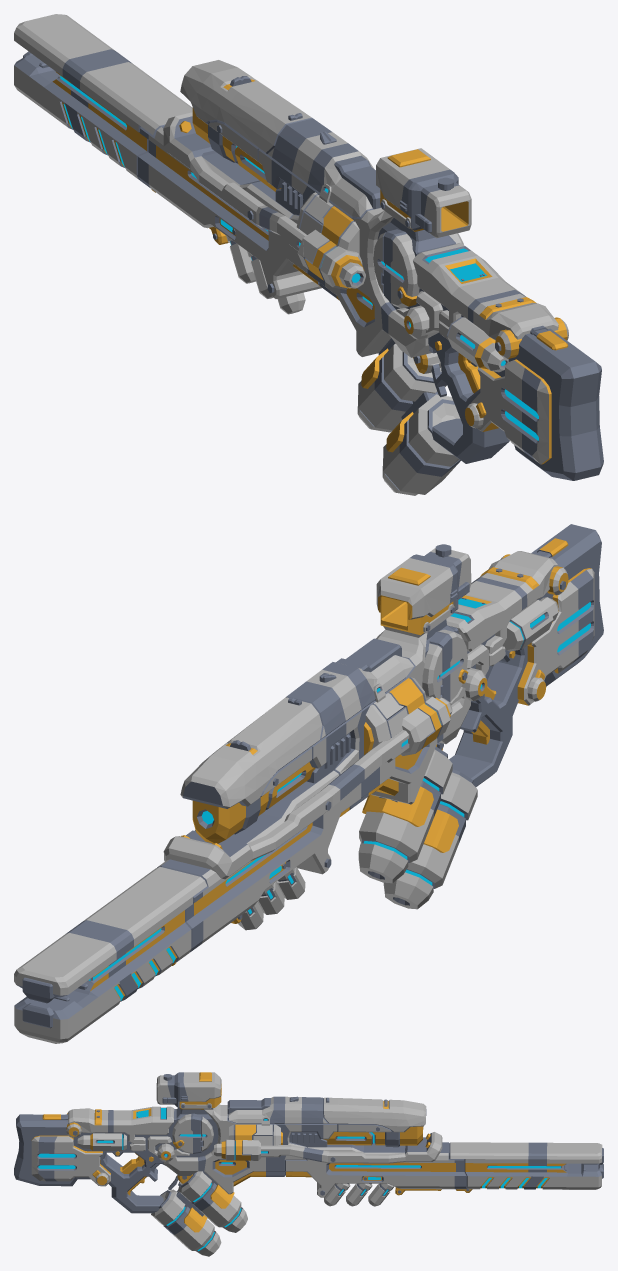
The model's file is remake_470.glb.
3 renders of one model, top to bottom at view 1: azimuth 30°, elevation 25°; view 2: azimuth 150°, elevation 25°; view 3: azimuth 270°, elevation 25°, orthographic. The views are drawn at different scales.
Parts seen in each view (by area): view 1: remake_470; view 2: remake_470; view 3: remake_470.
Boxes of the visible parts, box(x1,y1,x2,y2) form: remake_470: box(14, 14, 603, 495); remake_470: box(14, 524, 603, 1043); remake_470: box(14, 1072, 603, 1256).
Size of the model in its own units: 0.2189 by 0.57 by 1.69.
